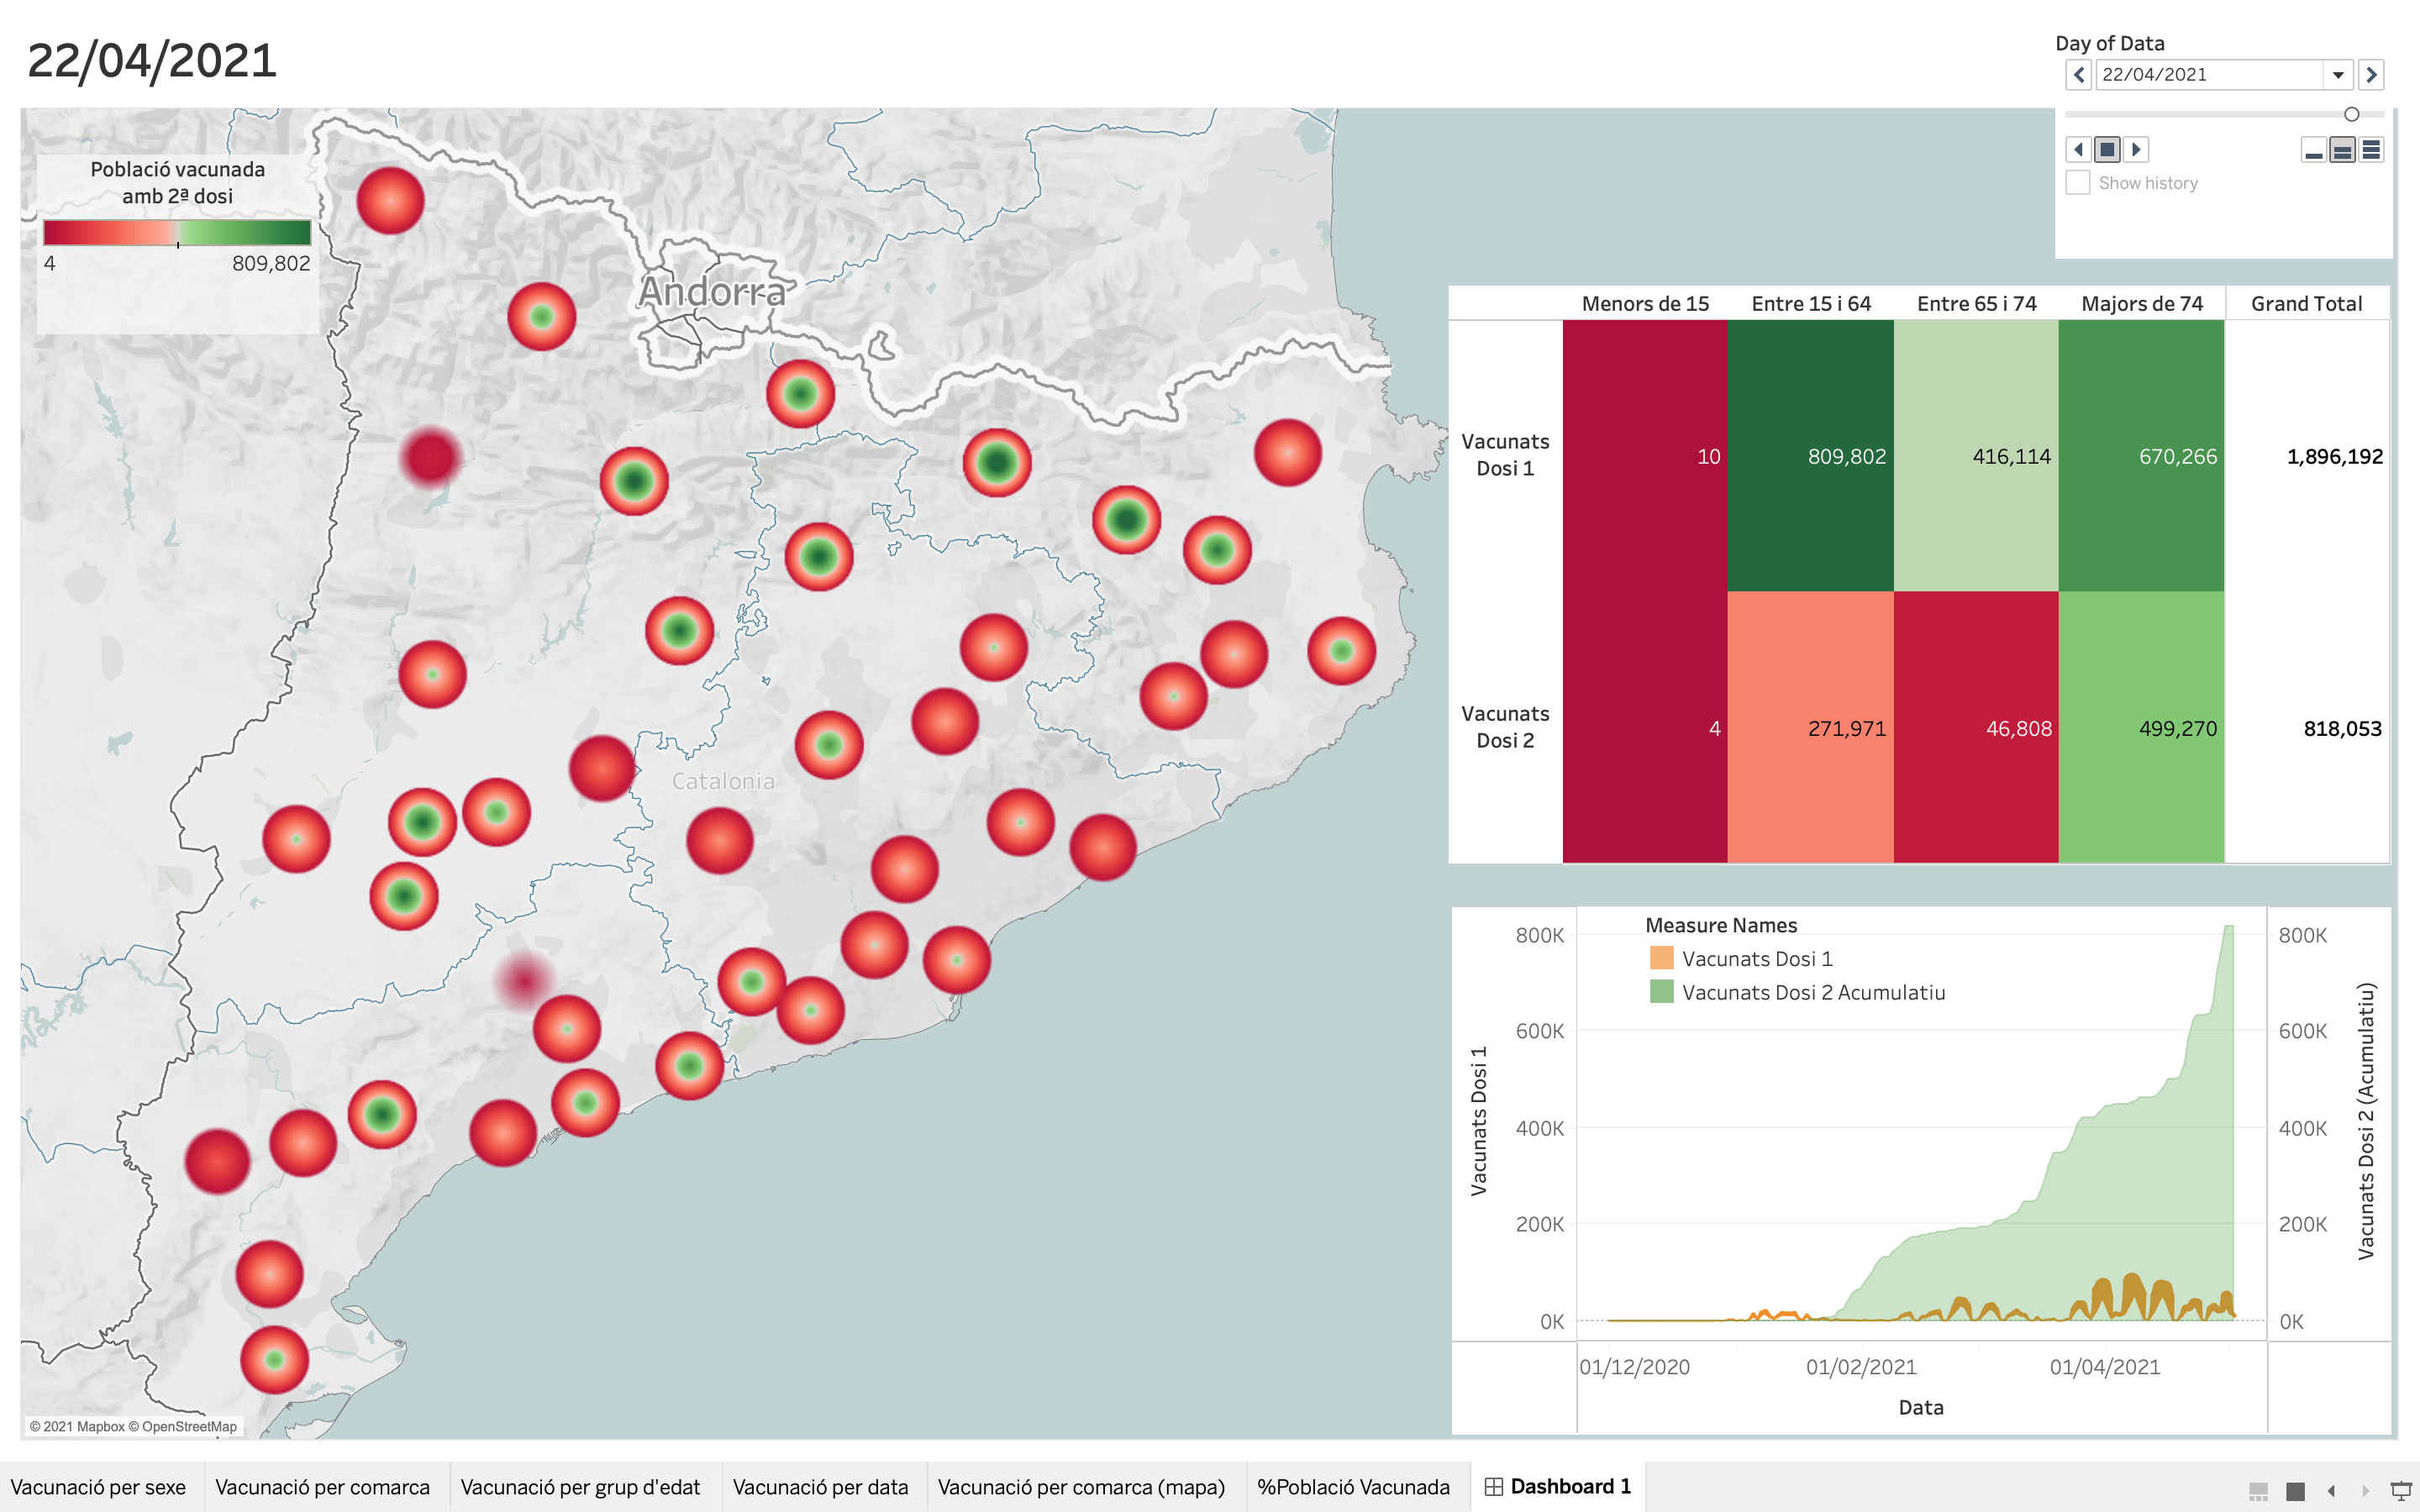

The dashboard page shown, as its layout file describes it:
{"tool":"tableau","page":{"name":"Dashboard 1","canvas":[1000,1000],"units":"permille","ordinal":1},"visuals":[{"type":"worksheet","box":[0,0,1000,1000]},{"type":"worksheet","param":"horz","box":[6.7,11.4,986.7,977.2]},{"type":"worksheet","box":[6.7,11.4,986.7,977.2]},{"type":"worksheet","title":"Vacunació per comarca (mapa)","mark":"Heatmap","rows":["LATITUDE"],"cols":["LONGITUDE"],"box":[6.7,11.4,986.7,977.2]},{"type":"worksheet","title":"Vacunació per grup d'edat","mark":"Square","cols":["GRUP_EDAT"],"param":"[federated.1p4ngpn01tn2bf1b4m70l0nsrzfb].[Multiple Values]","box":[870.8,51.4,116.7,122.7]},{"type":"worksheet","title":"Vacunació per comarca (mapa)","mark":"Heatmap","rows":["LATITUDE"],"cols":["LONGITUDE"],"box":[10.8,115.5,140,156.9]},{"type":"worksheet","title":"Vacunació per grup d'edat","mark":"Square","cols":["GRUP_EDAT"],"box":[598.3,195.4,390,396.6]},{"type":"worksheet","title":"Vacunació per data","mark":"Automatic","rows":["VACUNATS_DOSI_1","VACUNATS_DOSI_2"],"cols":["DATA"],"box":[600,619.1,389.2,362.3]},{"type":"worksheet","title":"Vacunació per data","mark":"Automatic","rows":["VACUNATS_DOSI_1","VACUNATS_DOSI_2"],"cols":["DATA"],"param":"[federated.1p4ngpn01tn2bf1b4m70l0nsrzfb].[:Measure Names]","box":[680,623.4,153.3,82.7]}]}

Visuals, with their boxes on the dashboard's canvas, which has no fixed pixel size, in thousandths of its width and height (x1, y1, x2, y2). These are canvas units, not pixel positions in the 2420x1512 screenshot, which may show the page scaled, cropped or inside an application window:
worksheet: 0 0 1000 1000
worksheet: 7 11 993 989
worksheet: 7 11 993 989
"Vacunació per comarca (mapa)" worksheet (Heatmap marks): 7 11 993 989
"Vacunació per grup d'edat" worksheet (Square marks): 871 51 988 174
"Vacunació per comarca (mapa)" worksheet (Heatmap marks): 11 116 151 272
"Vacunació per grup d'edat" worksheet (Square marks): 598 195 988 592
"Vacunació per data" worksheet: 600 619 989 981
"Vacunació per data" worksheet: 680 623 833 706
